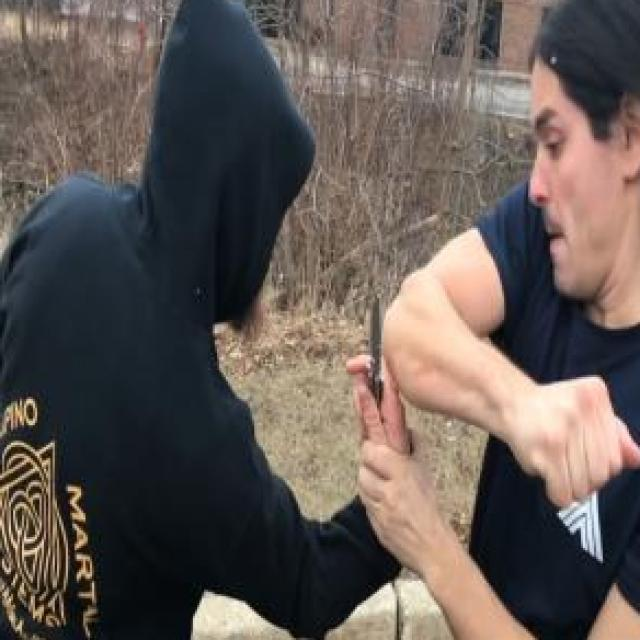knife: (342, 276, 392, 437)
